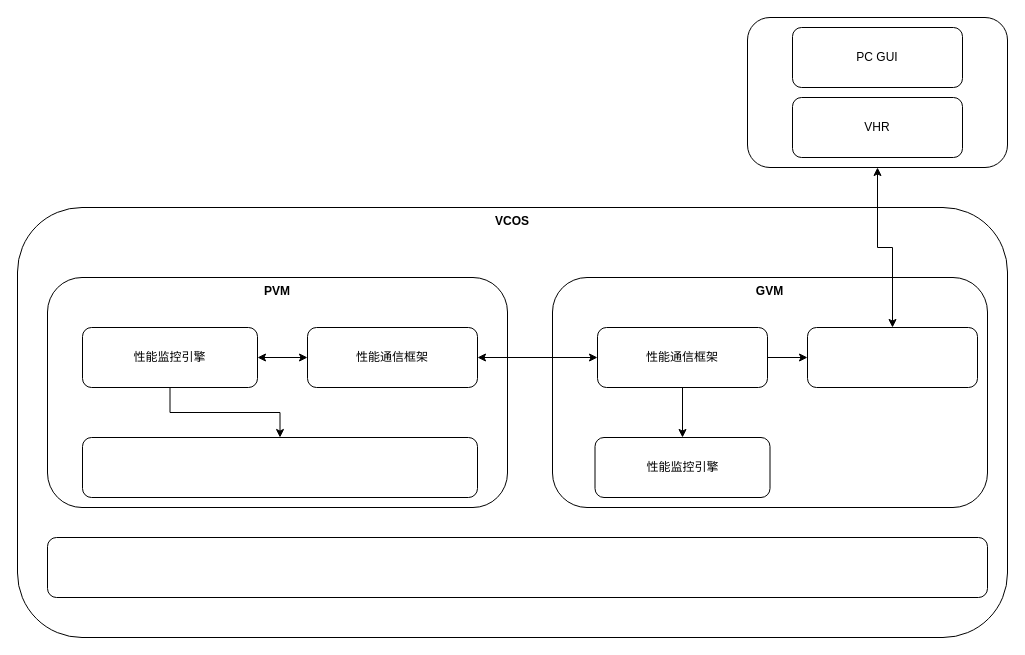
Image size: 1025x655. Some labels were removed from this diagram. The centre of each missing label's shape, as x and y in pixels:
Hypervisor/Hardware: pixel 517 567
性能引擎 CPU/Memory/GPU/NPU/......: pixel 280 467
端侧Agent: pixel 892 357
